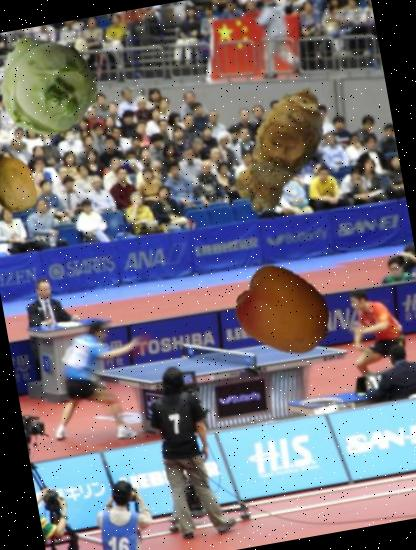Apricot: (228, 254, 340, 366)
Ginger: (203, 70, 362, 229)
Kohlrabi: (0, 21, 106, 146)
Papaya: (0, 151, 47, 219)
